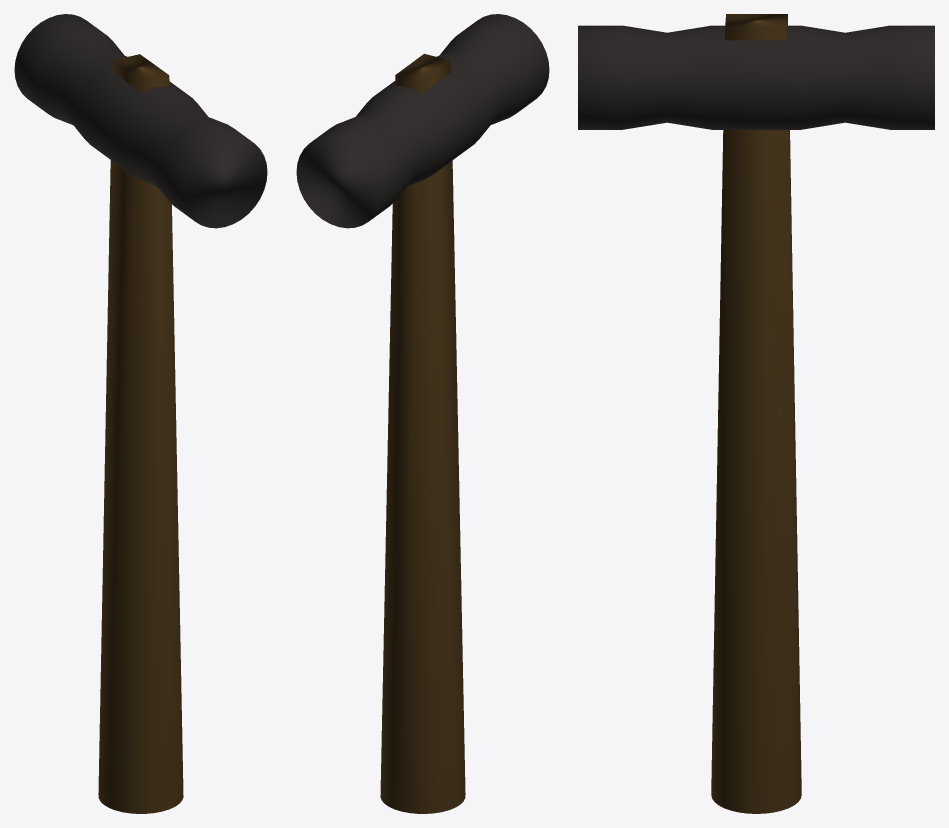
File: kanaduti.fbx
The picture shows the model from 3 angles, left to right: view 1: azimuth 30°, elevation 25°; view 2: azimuth 150°, elevation 25°; view 3: azimuth 270°, elevation 25°; orthographic projection. The views are drawn at different scales.
Visible parts, largest first — view 1: 円柱.001, 円柱; view 2: 円柱.001, 円柱; view 3: 円柱.001, 円柱.
Boxes of the visible parts, x1,y1,x2,y2 form: 円柱.001: (98, 54, 183, 813); 円柱: (14, 14, 267, 228); 円柱.001: (380, 53, 465, 813); 円柱: (296, 14, 549, 228); 円柱.001: (711, 14, 801, 813); 円柱: (578, 25, 934, 129).
Bounding box in the file's own units: 126 × 1026 × 429.
